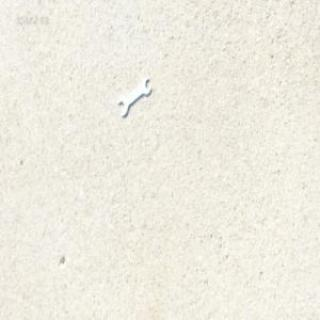Wrenchtrack_idkeyframe: (117, 75, 152, 116)
